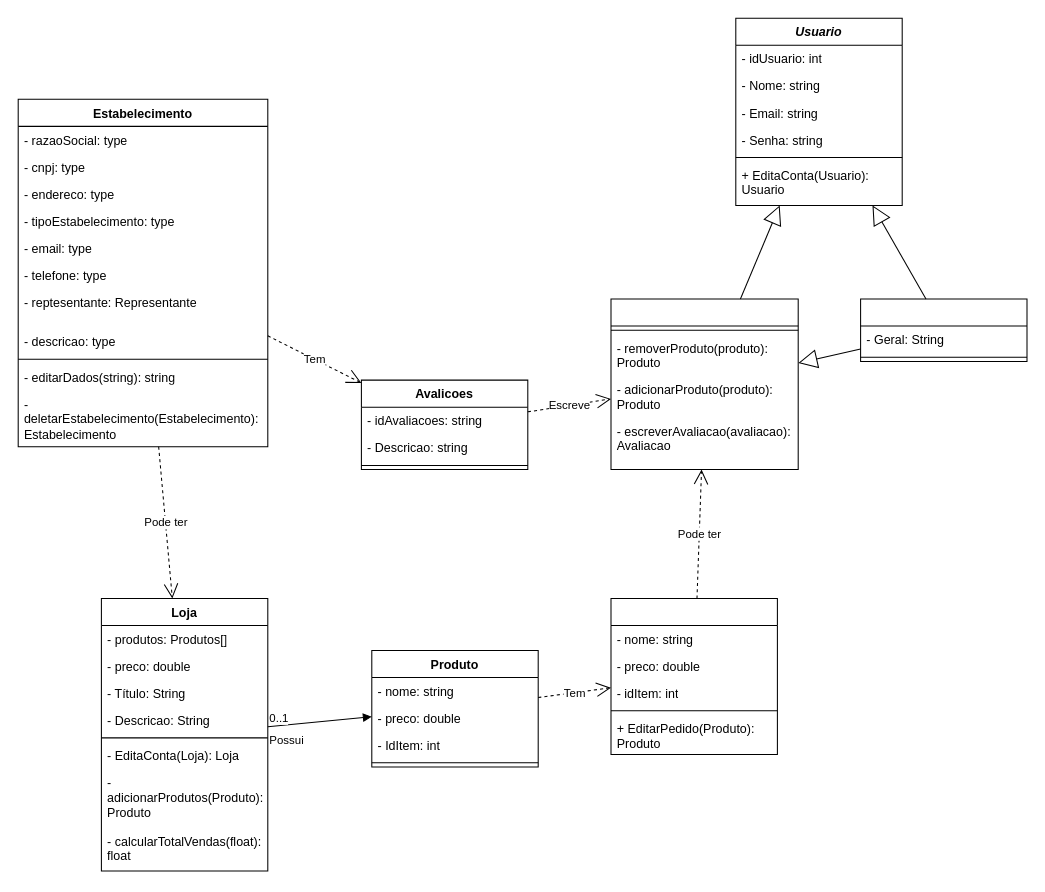
Image size: 1045x892. Some labels were removed from this diagram. The shapes that lost their labels are listed below. From the top down, each one's box as (x1, y1, x2, y2) in pixels, then its label:
(860, 298, 1027, 361): Representante
(610, 298, 798, 470): Cliente
(610, 597, 777, 755): Item Pedido
